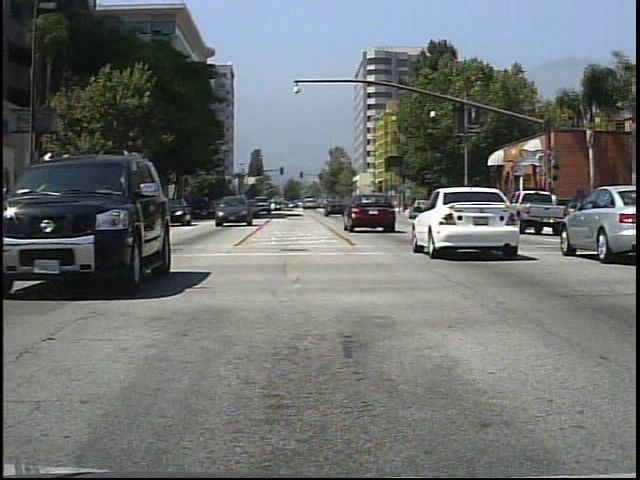person: (540, 192, 558, 228), (498, 189, 515, 224)
